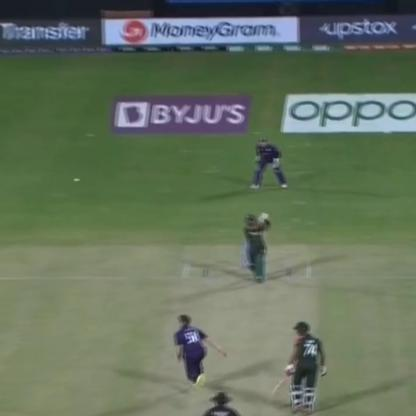ball: (68, 172, 86, 187)
pitch: (175, 246, 316, 415)
